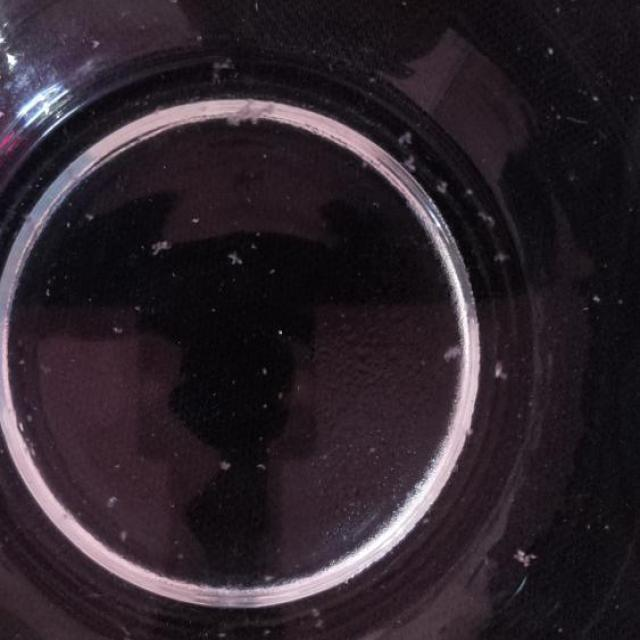fiber: (223, 99, 273, 126), (469, 195, 497, 235), (219, 247, 250, 273), (108, 318, 131, 348), (151, 234, 172, 264), (516, 547, 539, 570), (257, 449, 273, 478), (439, 346, 458, 370), (117, 521, 133, 549), (488, 361, 502, 392), (104, 482, 120, 508), (494, 247, 509, 270), (224, 452, 238, 476), (394, 129, 415, 144), (129, 299, 142, 316), (161, 0, 183, 10), (400, 156, 413, 171), (86, 202, 100, 214), (433, 175, 445, 187), (42, 285, 51, 299)
